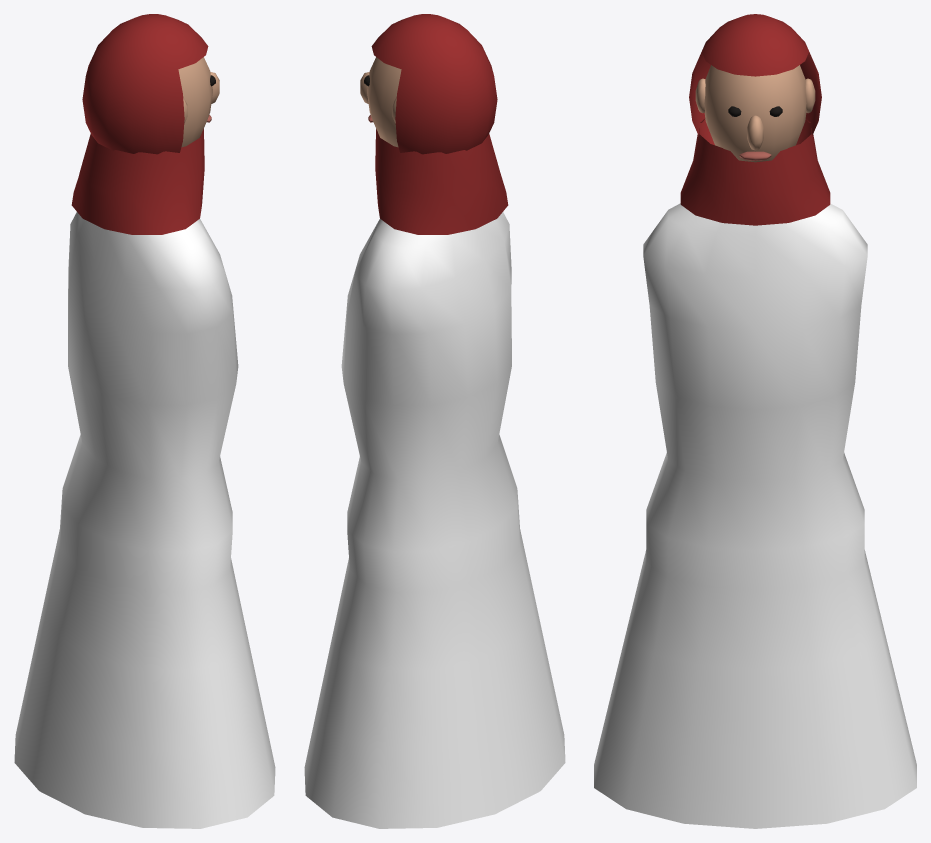
The model's file is body_babushka.obj.
The picture shows the model from 3 angles, left to right: view 1: azimuth 30°, elevation 25°; view 2: azimuth 150°, elevation 25°; view 3: azimuth 270°, elevation 25°; orthographic projection. The views are drawn at different scales.
Visible parts, largest first — view 1: body_babushka_CoatPaint, body_babushka_Scarf, body_babushka_Skin; view 2: body_babushka_CoatPaint, body_babushka_Scarf, body_babushka_Skin; view 3: body_babushka_CoatPaint, body_babushka_Scarf, body_babushka_Skin.
Part boxes in pixels (<box>): body_babushka_CoatPaint: <box>14,212,275,828</box>; body_babushka_Scarf: <box>71,14,208,234</box>; body_babushka_Skin: <box>178,57,219,147</box>; body_babushka_CoatPaint: <box>304,212,565,828</box>; body_babushka_Scarf: <box>371,14,508,234</box>; body_babushka_Skin: <box>360,57,401,147</box>; body_babushka_CoatPaint: <box>594,203,916,828</box>; body_babushka_Scarf: <box>680,14,830,225</box>; body_babushka_Skin: <box>695,65,815,162</box>.
Size of the model in its own units: 0.39 by 1.38 by 0.505.
5 materials, 5 textured.
